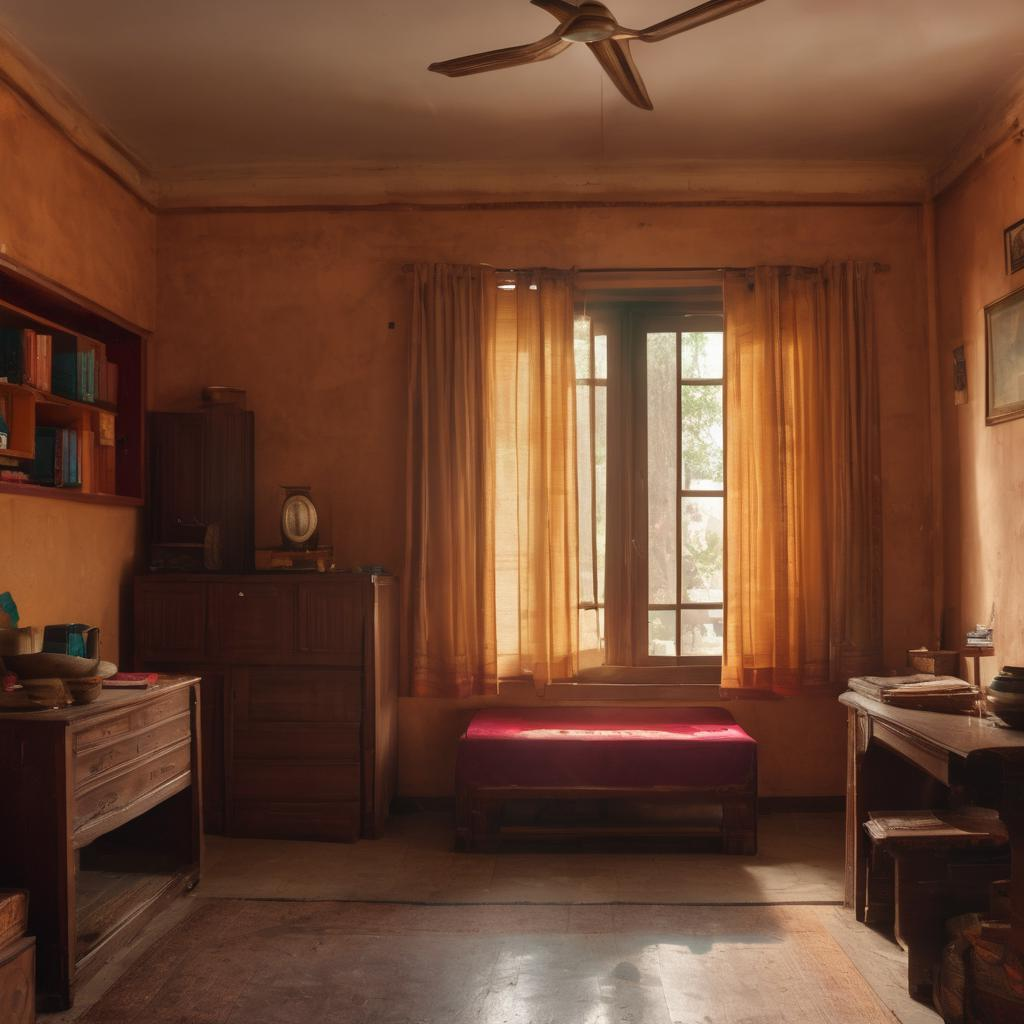fan: (414, 0, 784, 115)
table: (0, 645, 202, 1024), (836, 652, 1024, 1024), (432, 702, 754, 860)
